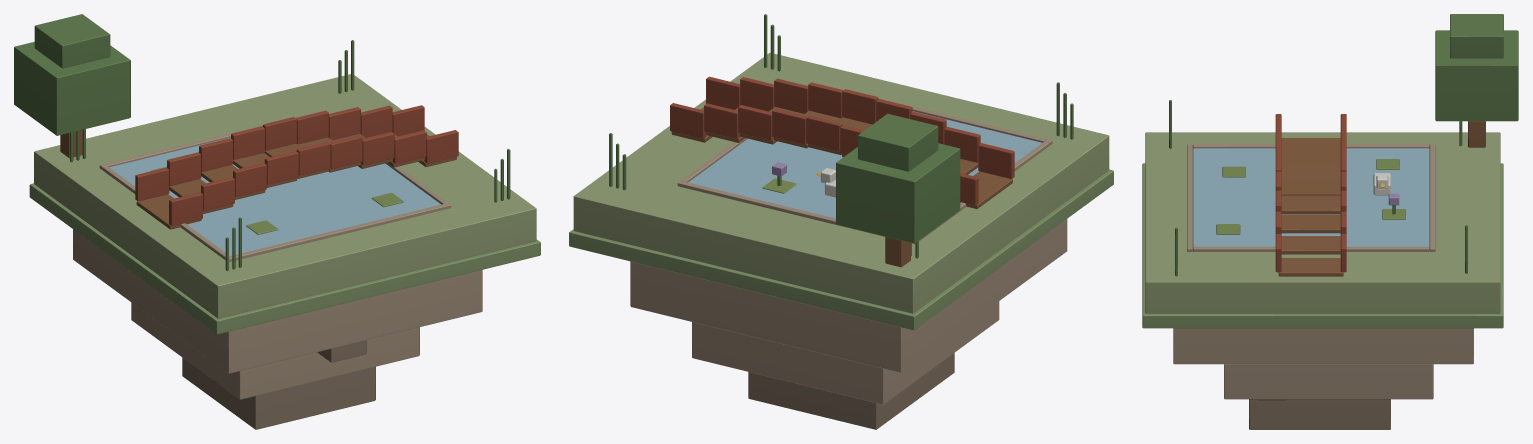
The model's file is region_04.glb.
The picture shows the model from 3 angles, left to right: view 1: azimuth 30°, elevation 25°; view 2: azimuth 150°, elevation 25°; view 3: azimuth 270°, elevation 25°; orthographic projection. The views are drawn at different scales.
Parts seen in each view (by area): view 1: region_04_static; view 2: region_04_static; view 3: region_04_static, region_04_duck.
Part boxes in pixels (x1=…): region_04_static: x1=14, y1=14, x2=540, y2=429; region_04_static: x1=569, y1=14, x2=1113, y2=429; region_04_static: x1=1142, y1=14, x2=1518, y2=429; region_04_duck: x1=1373, y1=173, x2=1390, y2=195.
Bounding box in the file's own units: 6.25 × 5.93 × 6.35.
